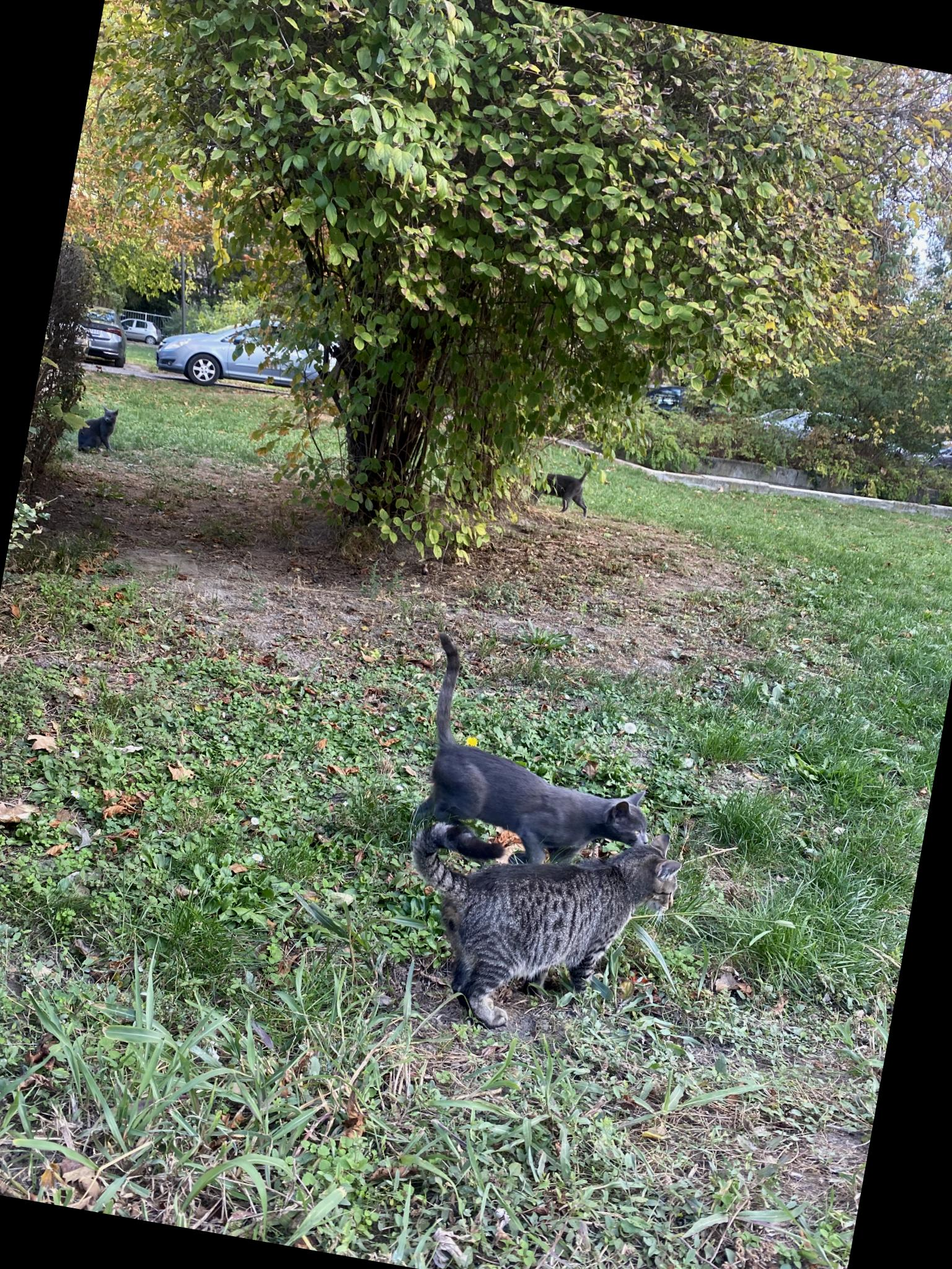macka: (386, 790, 686, 1054), (385, 627, 679, 883), (526, 443, 598, 517), (75, 402, 121, 456)
